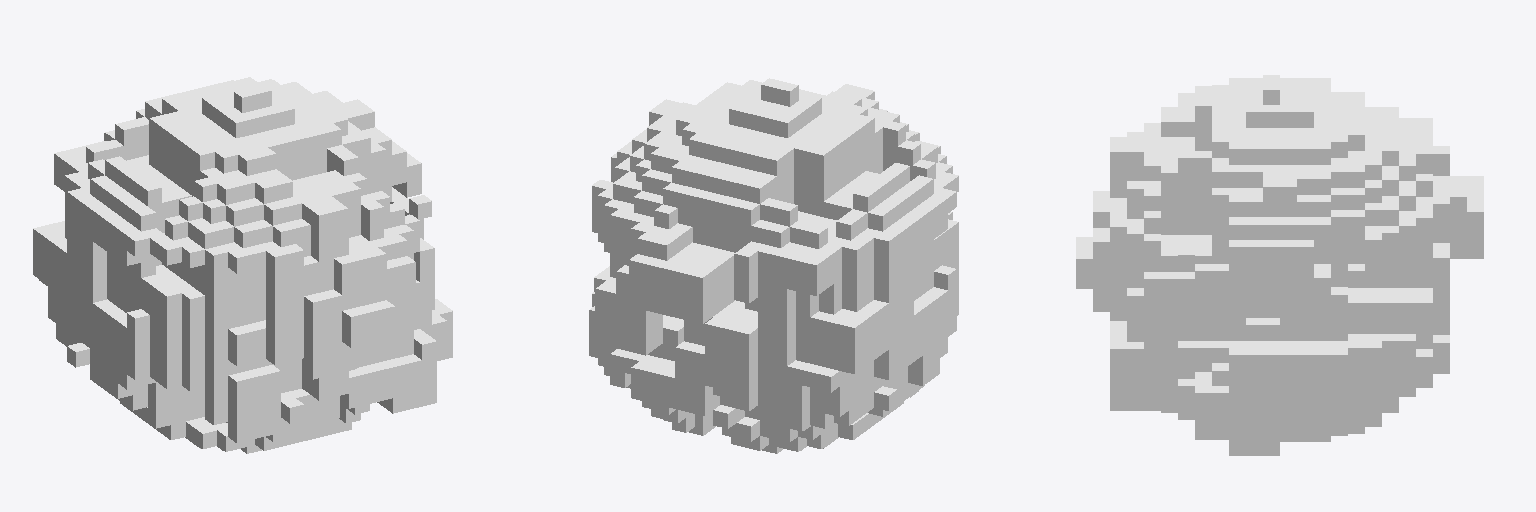
The model's file is meteor.obj.
3 renders of one model, left to right at view 1: azimuth 30°, elevation 25°; view 2: azimuth 150°, elevation 25°; view 3: azimuth 270°, elevation 25°, orthographic.
Visible parts, largest first — view 1: meteor; view 2: meteor; view 3: meteor.
Part boxes in pixels (bbox=[...]): meteor: bbox=[33, 77, 452, 453]; meteor: bbox=[589, 78, 958, 453]; meteor: bbox=[1076, 75, 1483, 455].
Bounding box in the file's own units: 21 × 22 × 24.